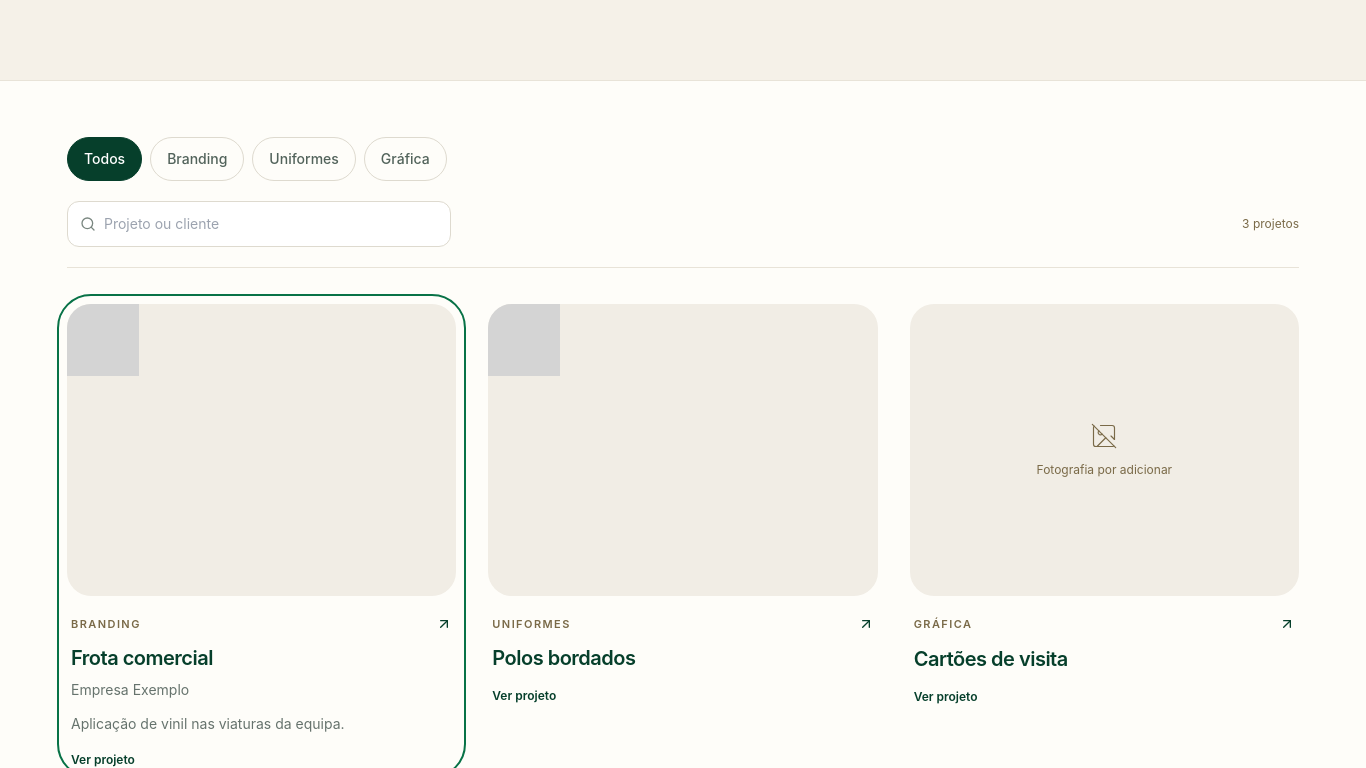
Test: Portfolio workspace for visitors › opens complete recorded details and restores focus after closing
The width and height of the screenshot is (1366, 768).
(page scrolled)
Click the button with aria-label "Abrir projeto: Frota comercial".
click(262, 536)  # box [67,304,456,767]
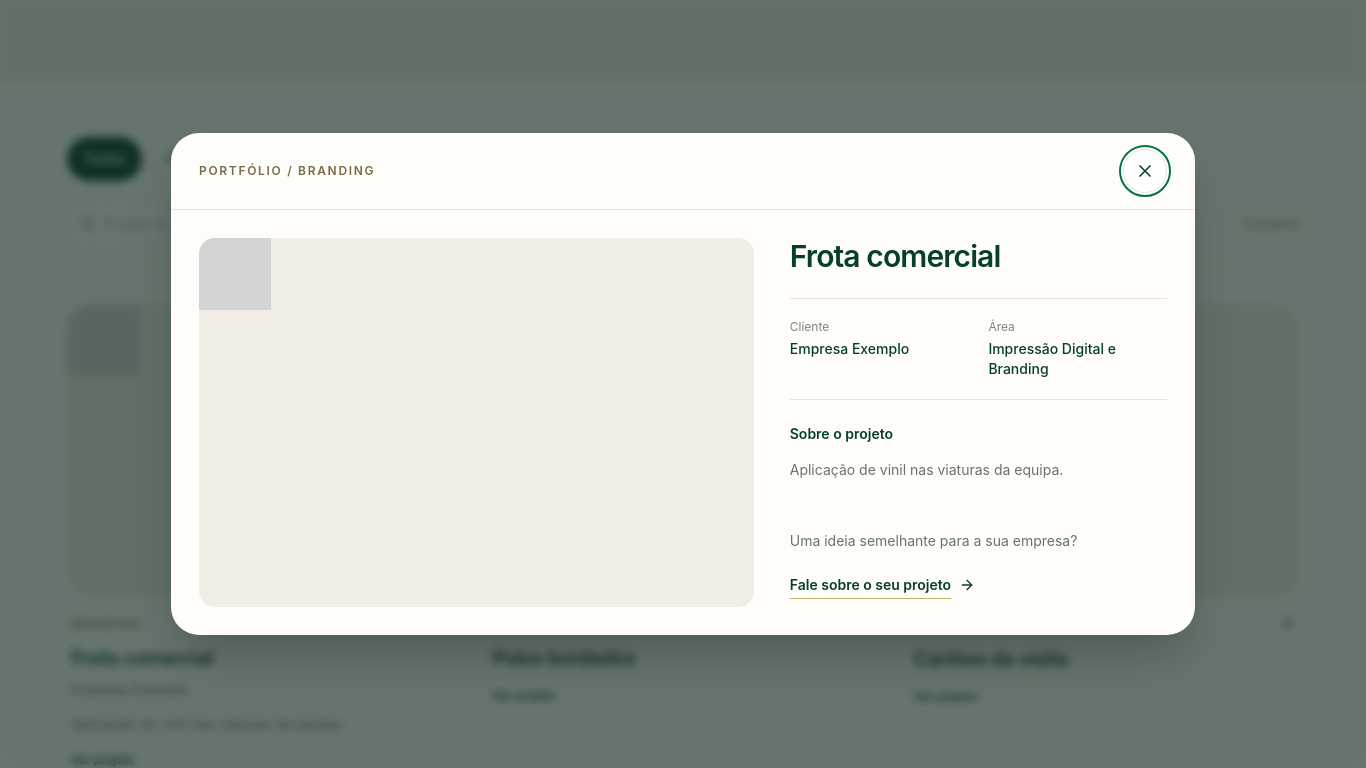
Now the text "Empresa Exemplo" is shown, box [790,340,909,357]
Now the text "Aplicação de vinil nas viaturas da equipa." is shown, box [790,461,1063,478]
Click the button named "Fechar projeto".
click(1145, 171)  # box [1123,149,1167,193]
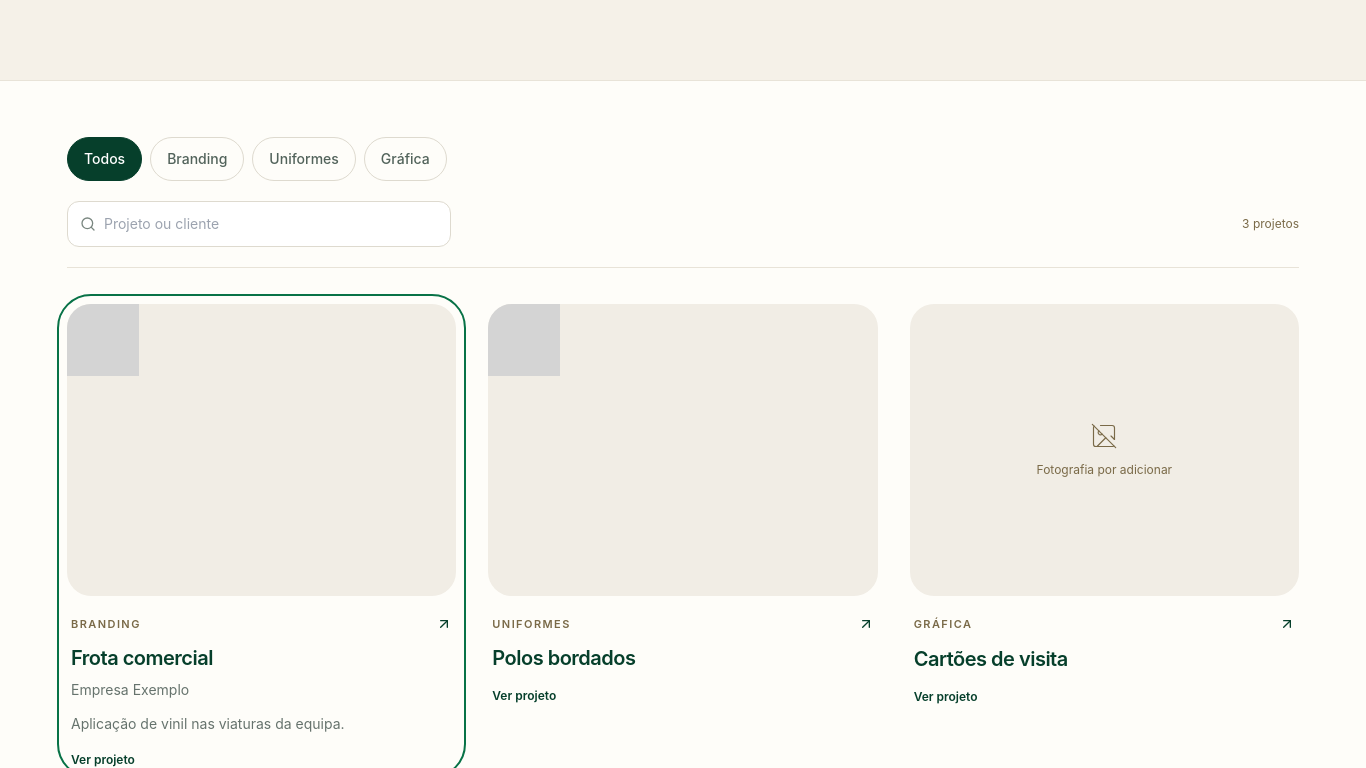
Now the dialog is gone
